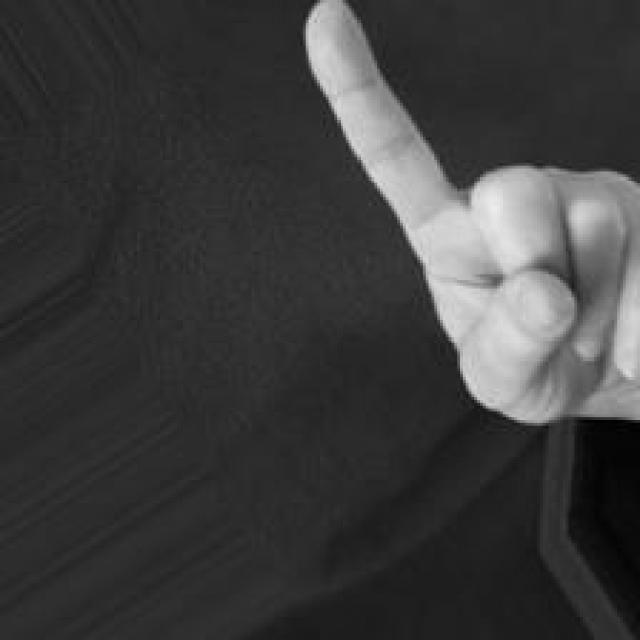I: (297, 0, 640, 430)
